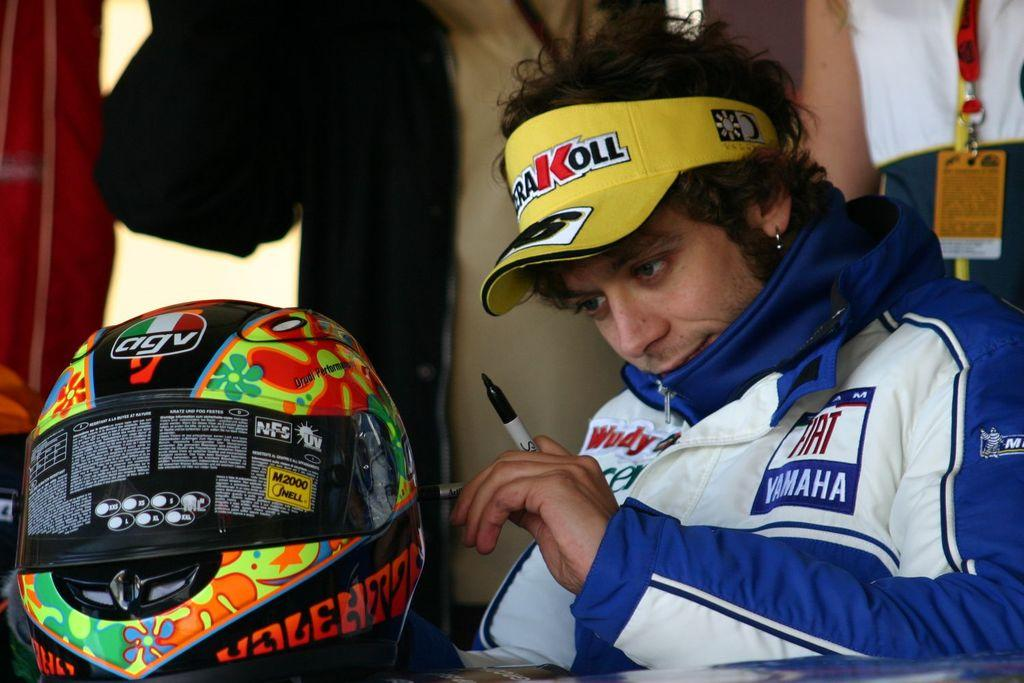helmet: (7, 299, 426, 683)
nohelmet: (480, 25, 804, 401)
